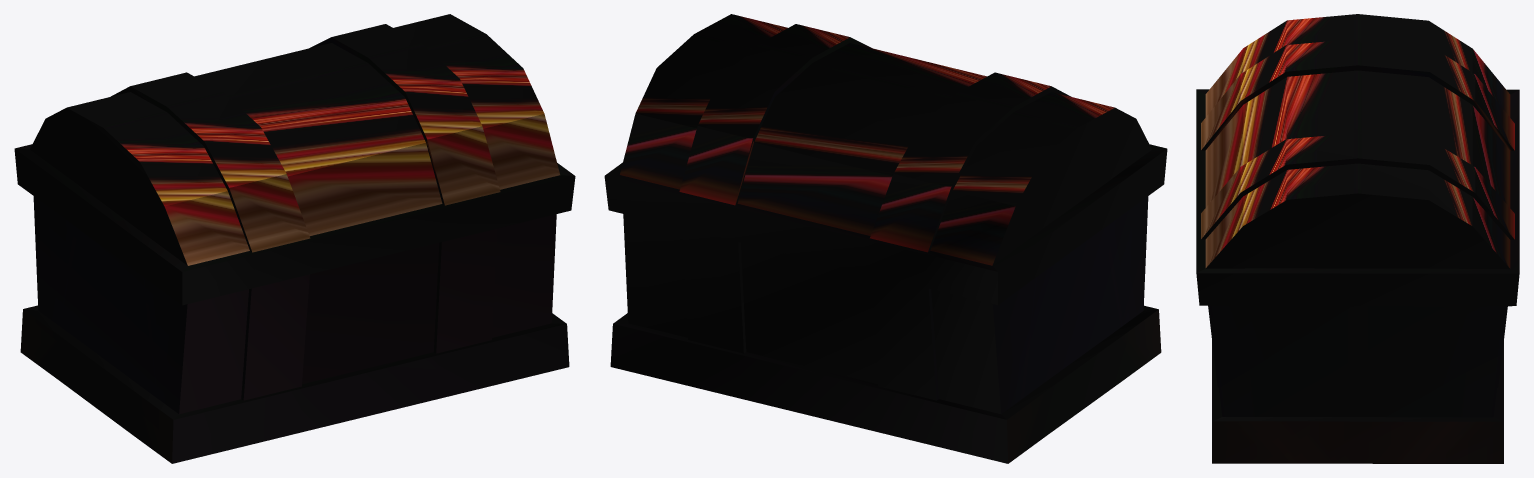
Rendered from actor.obj.
3 views of the same model, side by side, from view 1: azimuth 30°, elevation 25°; view 2: azimuth 150°, elevation 25°; view 3: azimuth 270°, elevation 25° (orthographic). The views are drawn at different scales.
Visible parts, largest first — view 1: actor; view 2: actor; view 3: actor.
Boxes of the visible parts, x1=… form: actor: x1=14, y1=14, x2=575, y2=463; actor: x1=604, y1=14, x2=1167, y2=463; actor: x1=1196, y1=14, x2=1519, y2=463.
Bounding box in the file's own units: 7.59 × 5.18 × 5.57.
1 material, 1 textured.
